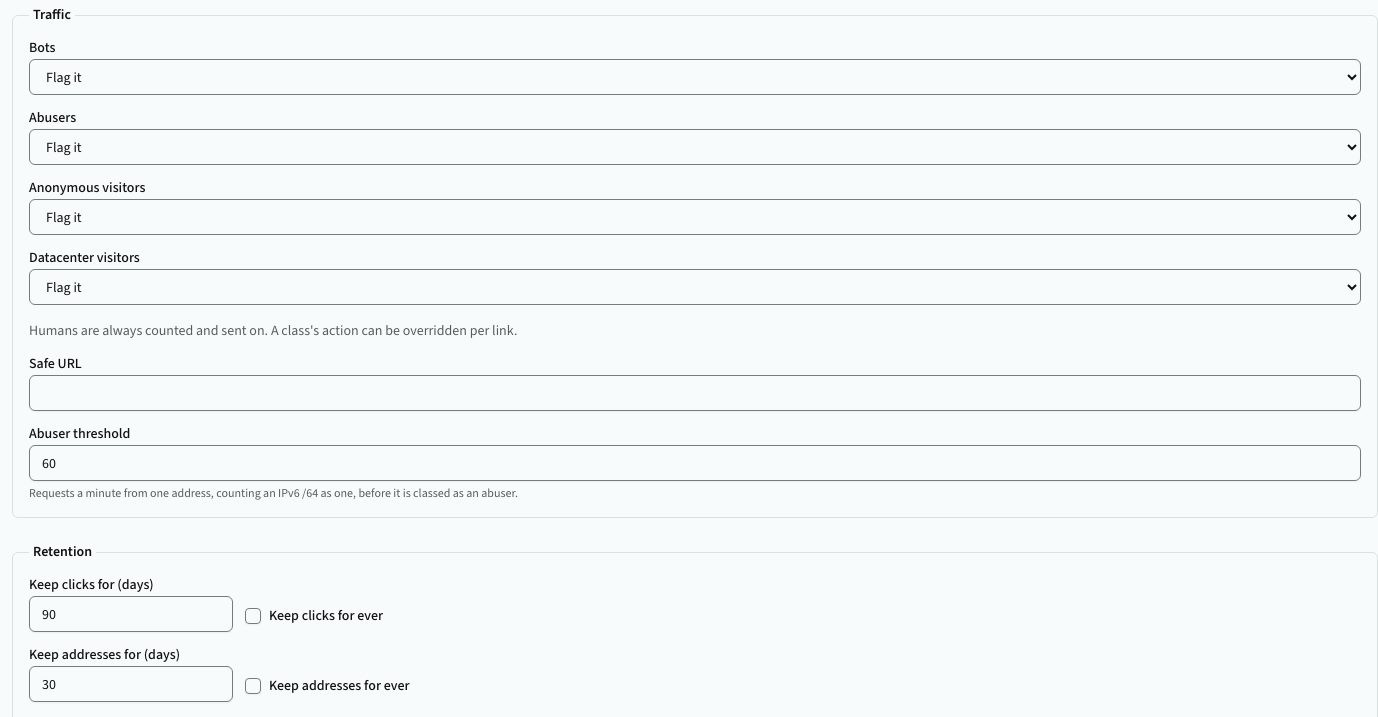
Test case: the settings screen › saves both halves together, as a whole
Replace the text in the field labelled "Abuser threshold" with "120" at (695, 463), box left=29, top=445, right=1361, bottom=481
(page scrolled)
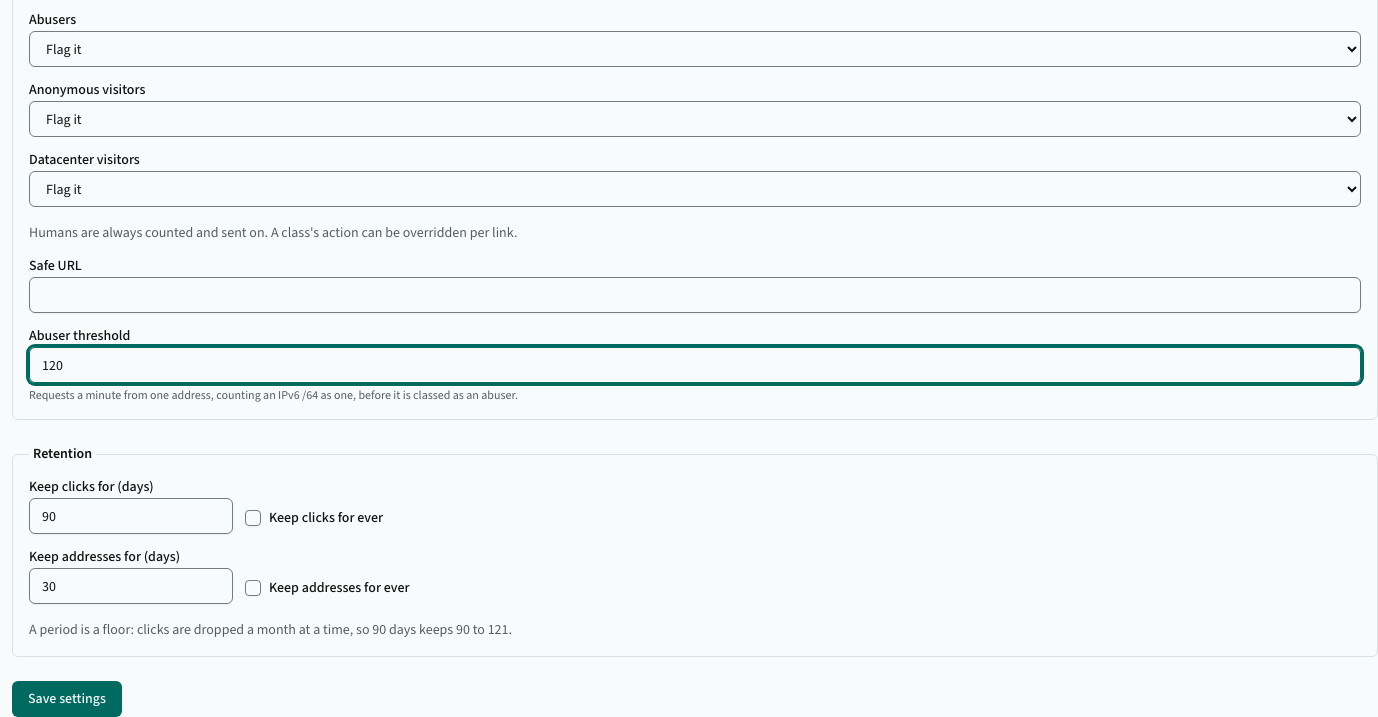
Click the button "Save settings" at (67, 699), box left=12, top=681, right=122, bottom=716
(page scrolled)
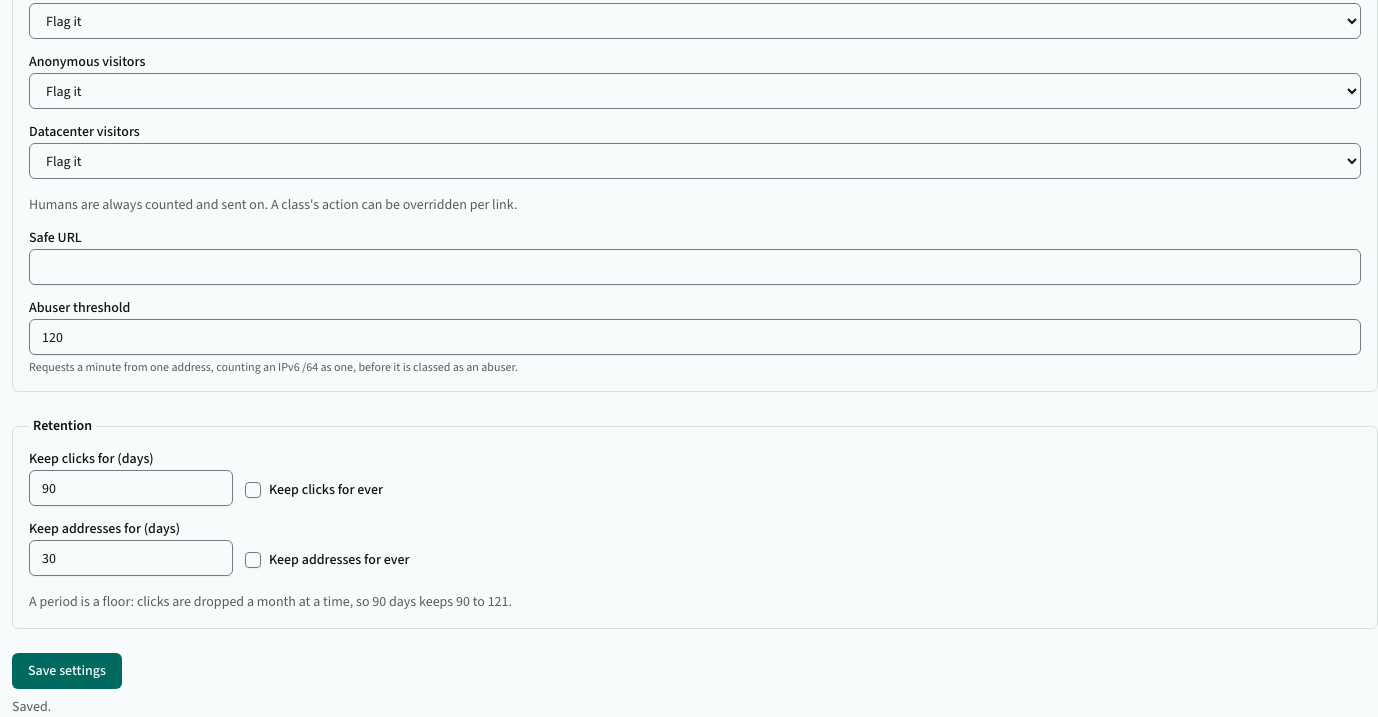
Expected: the text "Saved." is shown, left=12, top=697, right=51, bottom=716
